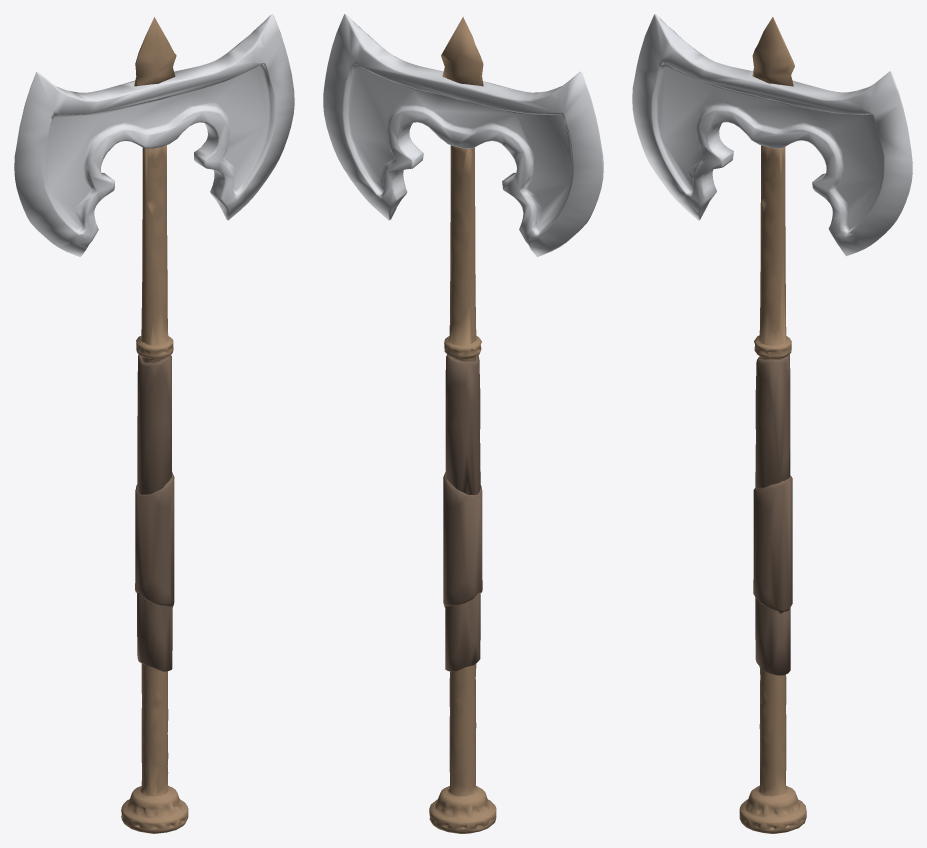
File: demir_balta.glb
The picture shows the model from 3 angles, left to right: view 1: azimuth 30°, elevation 25°; view 2: azimuth 150°, elevation 25°; view 3: azimuth 330°, elevation 25°; orthographic projection.
Bounding box in the file's own units: 0.3325 × 0.9241 × 0.0692.
